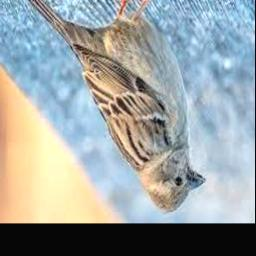Sparrow: (23, 0, 206, 214)
